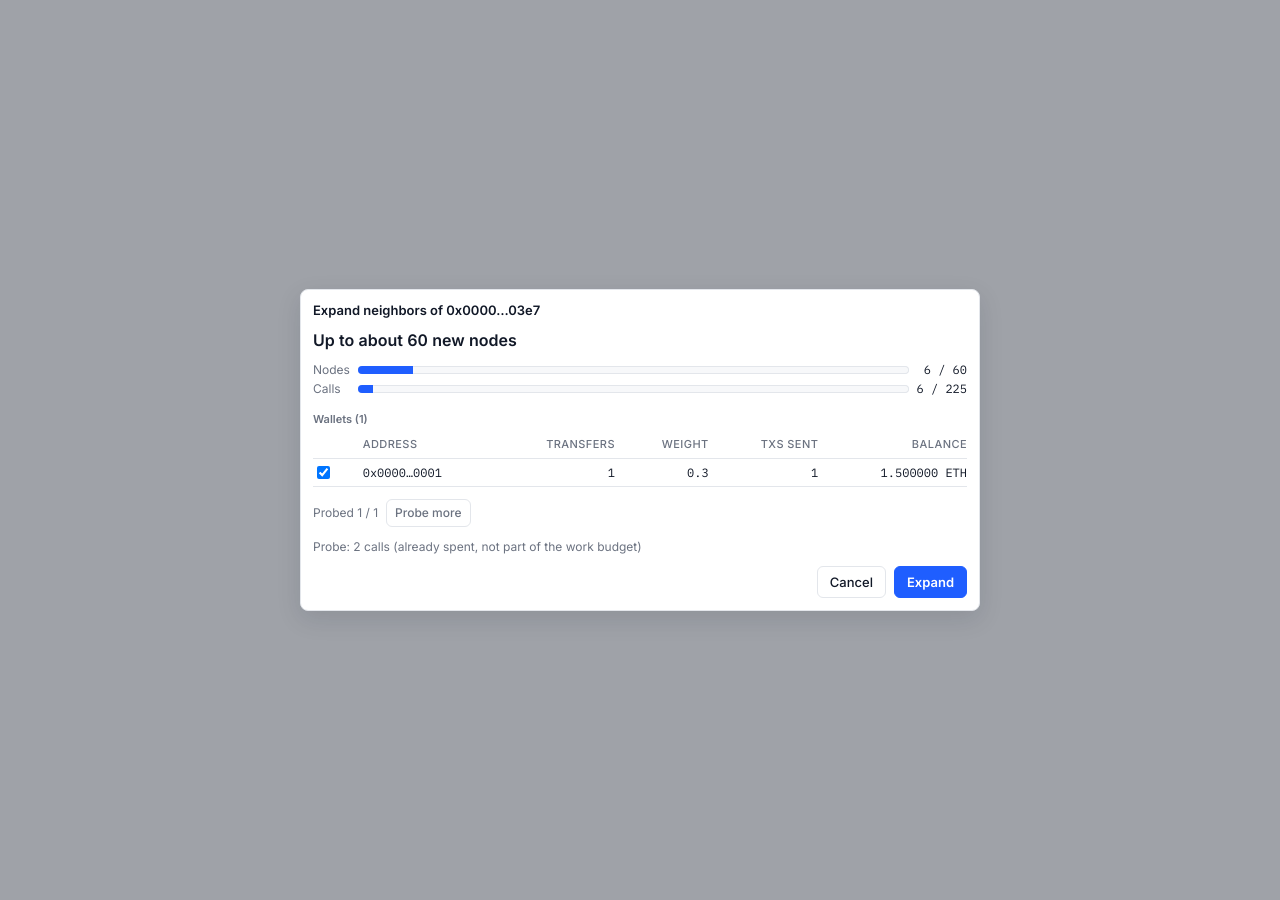
a failed sync keeps the dialog open, expands nothing, cancels the batch and toasts the error
Click the button "Expand".
click(930, 582)  # box [894,566,967,598]
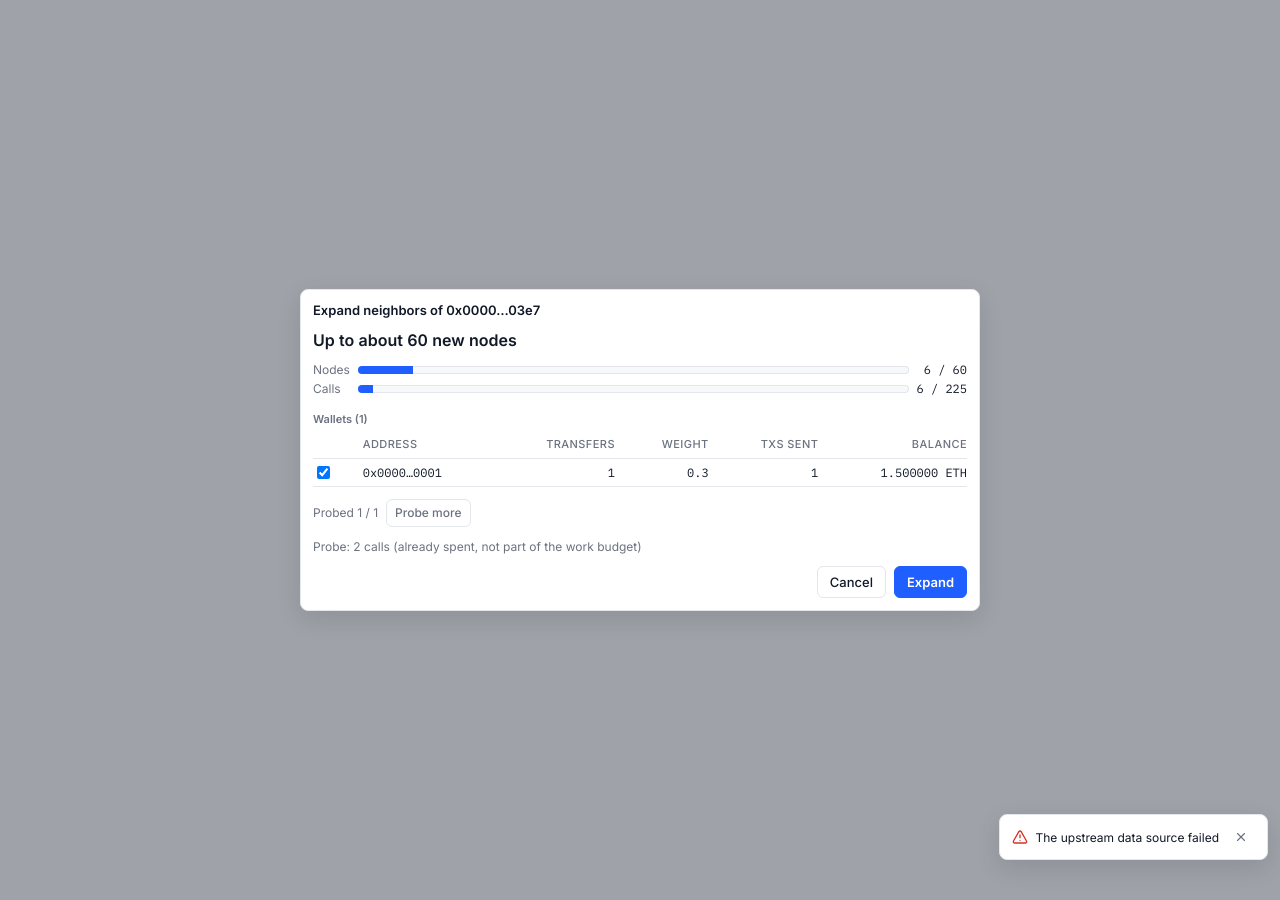
Check: the text "The upstream data source failed" is shown, box [1036,830,1219,844]
